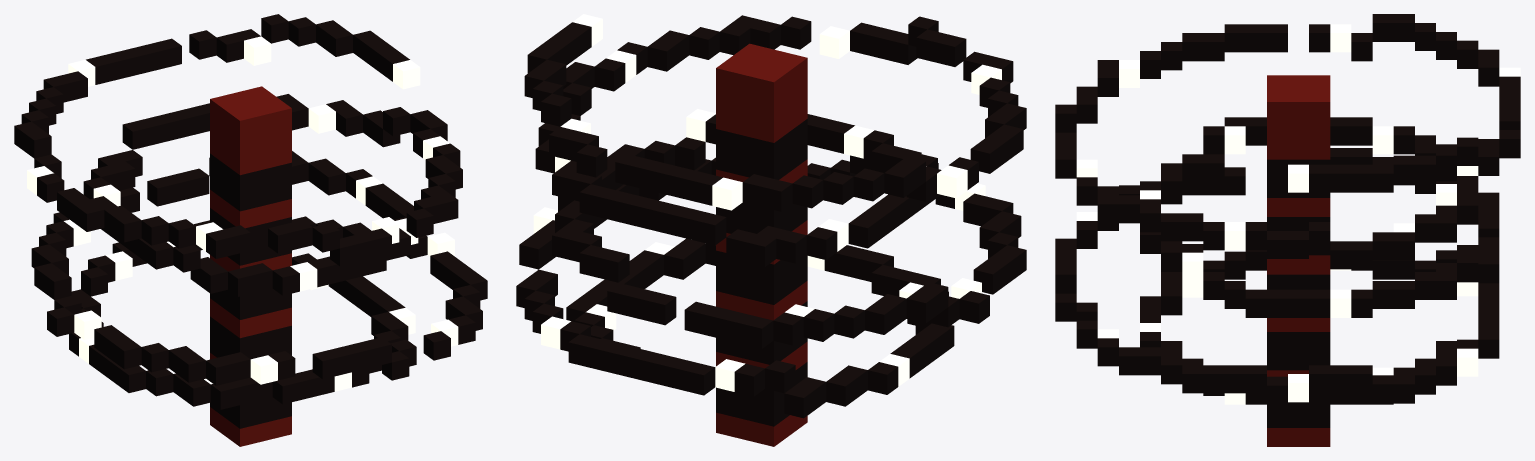
The model's file is whip_masterwork.glb.
The picture shows the model from 3 angles, left to right: view 1: azimuth 30°, elevation 25°; view 2: azimuth 150°, elevation 25°; view 3: azimuth 270°, elevation 25°; orthographic projection. The views are drawn at different scales.
Parts seen in each view (by area): view 1: whip_masterwork; view 2: whip_masterwork; view 3: whip_masterwork.
Part boxes in pixels (x1,y1,x2,y2): whip_masterwork: (14, 14, 487, 446); whip_masterwork: (516, 14, 1026, 446); whip_masterwork: (1055, 14, 1520, 446).
Bounding box in the file's own units: 0.345 × 0.27 × 0.33.
